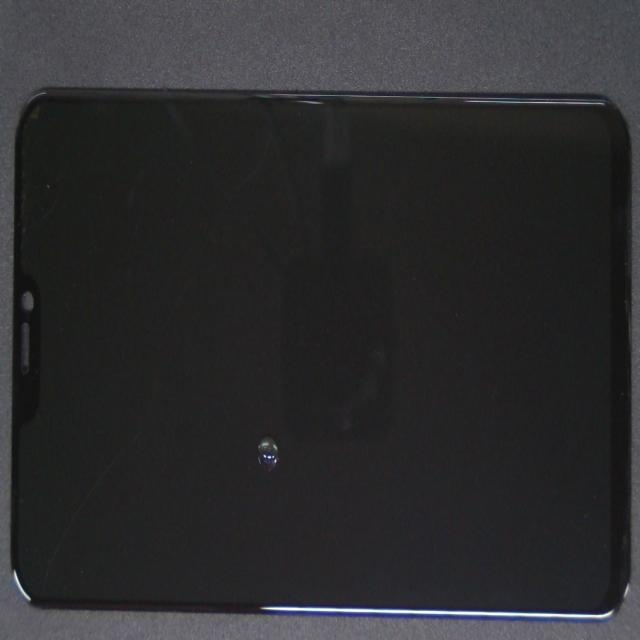oil: (157, 233, 421, 640)
